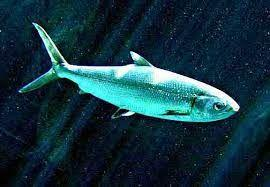Bangus: (20, 22, 241, 128)
